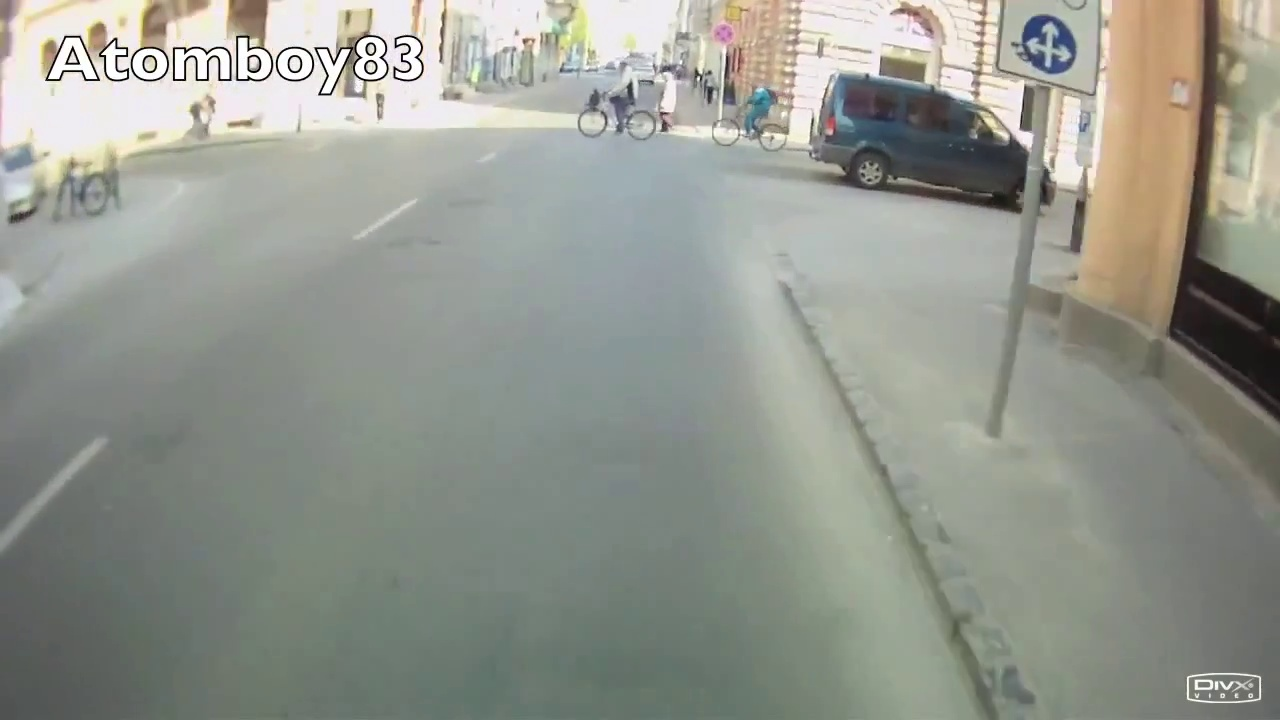cyclist_side: (570, 55, 655, 139), (709, 78, 790, 152)
